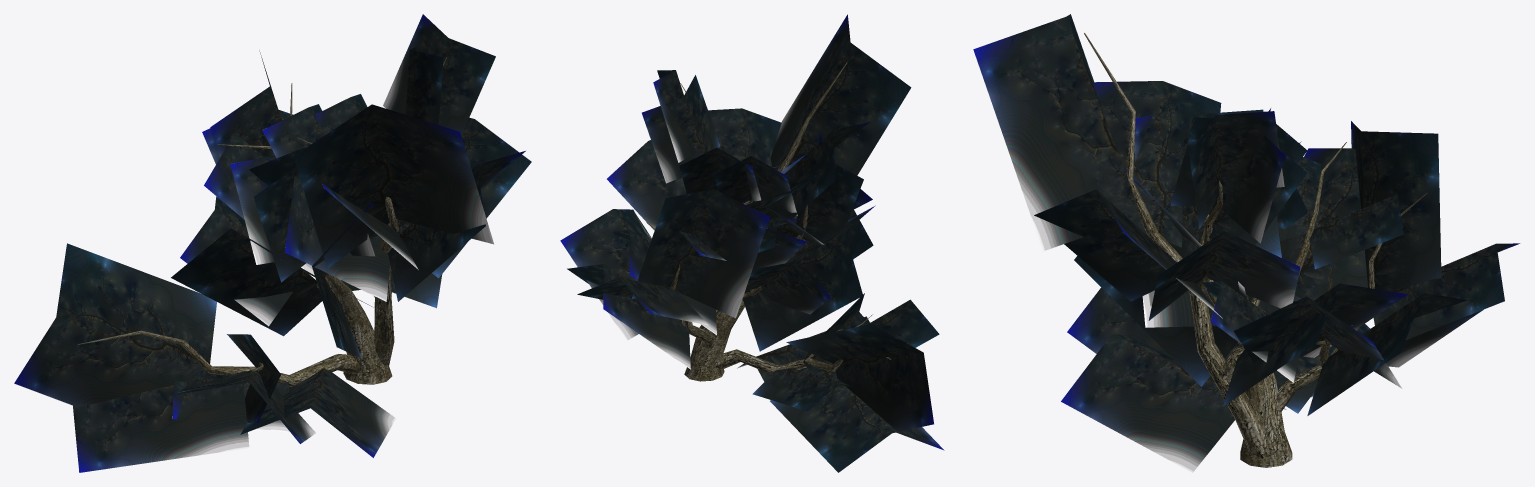
Rendered from oak-winter-d.DAE.
The picture shows the model from 3 angles, left to right: view 1: azimuth 30°, elevation 25°; view 2: azimuth 150°, elevation 25°; view 3: azimuth 270°, elevation 25°; orthographic projection. The views are drawn at different scales.
Visible parts, largest first — view 1: oak_winter_d; view 2: oak_winter_d; view 3: oak_winter_d.
Boxes of the visible parts, box(x1,y1,x2,y2) form: oak_winter_d: box(14, 14, 531, 472); oak_winter_d: box(560, 14, 944, 472); oak_winter_d: box(973, 14, 1520, 472).
Bounding box in the file's own units: 1418 × 1380 × 1179.
